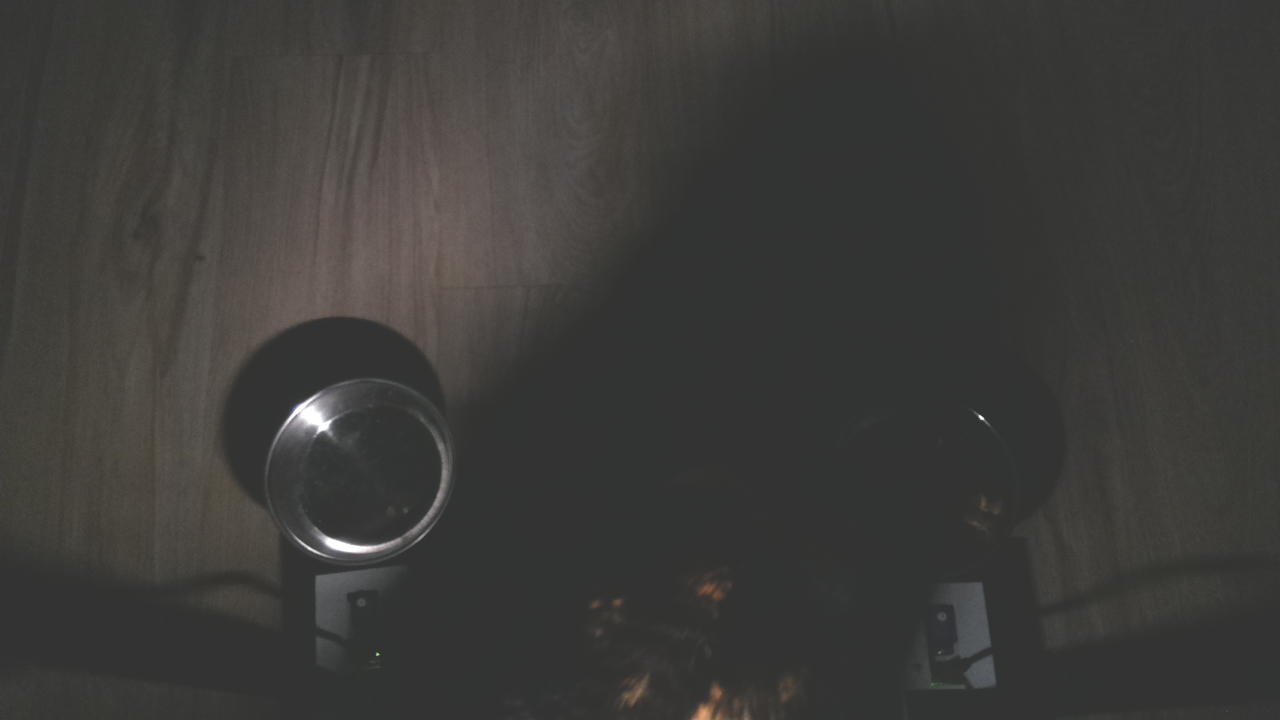open_bowl: (261, 370, 463, 575)
